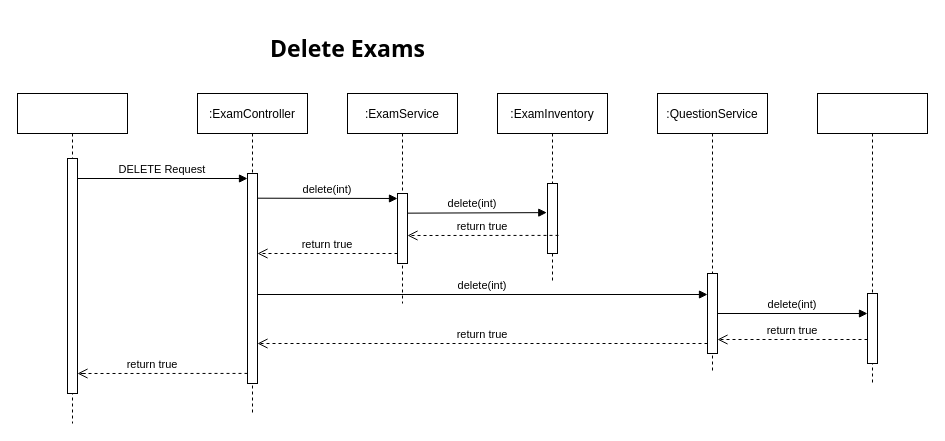
The diagram is 945 pixels wide and 441 high, and some of its shapes have lost their labels. Each missing label, with the box of its shape:
:QuestionInventory: (816, 92, 928, 384)
:WebApp: (16, 92, 128, 424)
